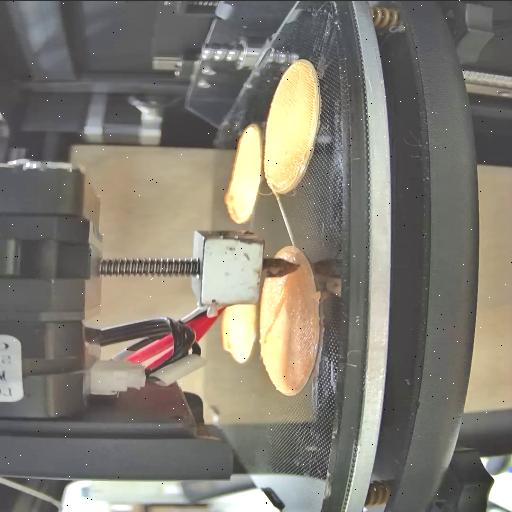over_extrusion: (258, 276, 294, 343), (218, 188, 256, 226), (218, 315, 236, 355)
